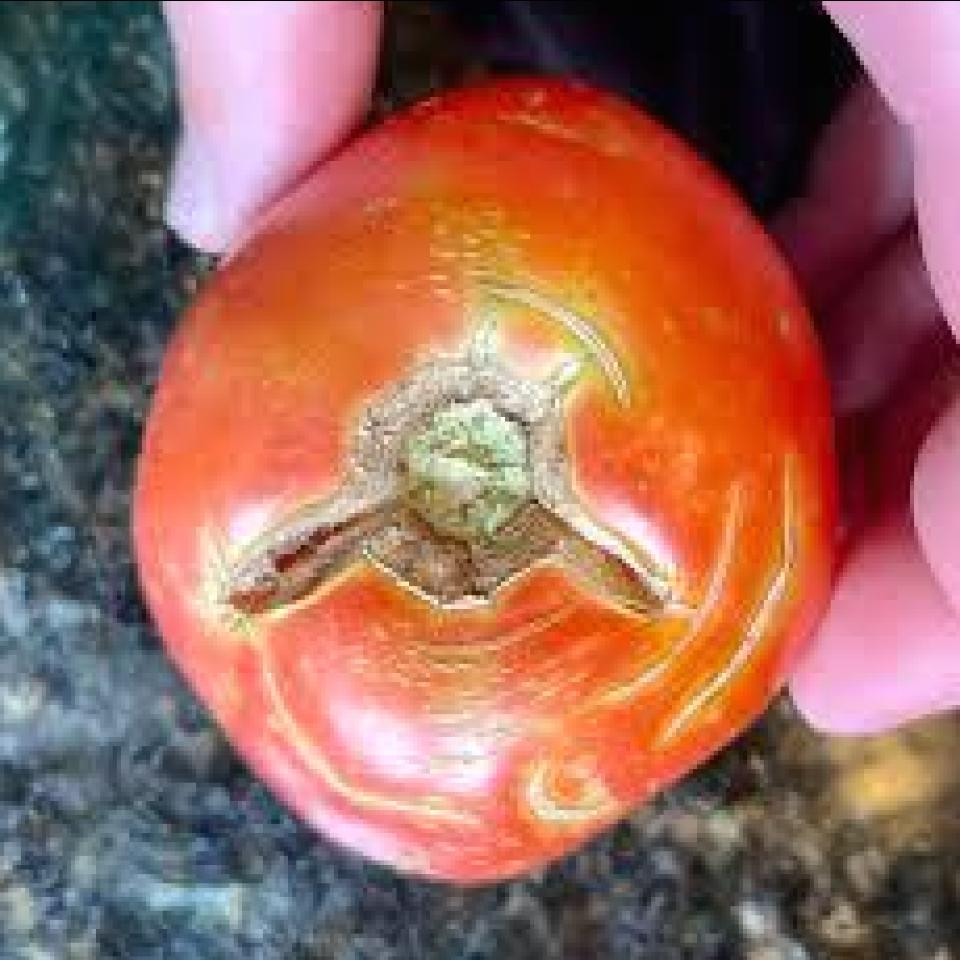Cracking: (208, 266, 710, 690), (154, 477, 657, 865), (684, 419, 812, 779)
